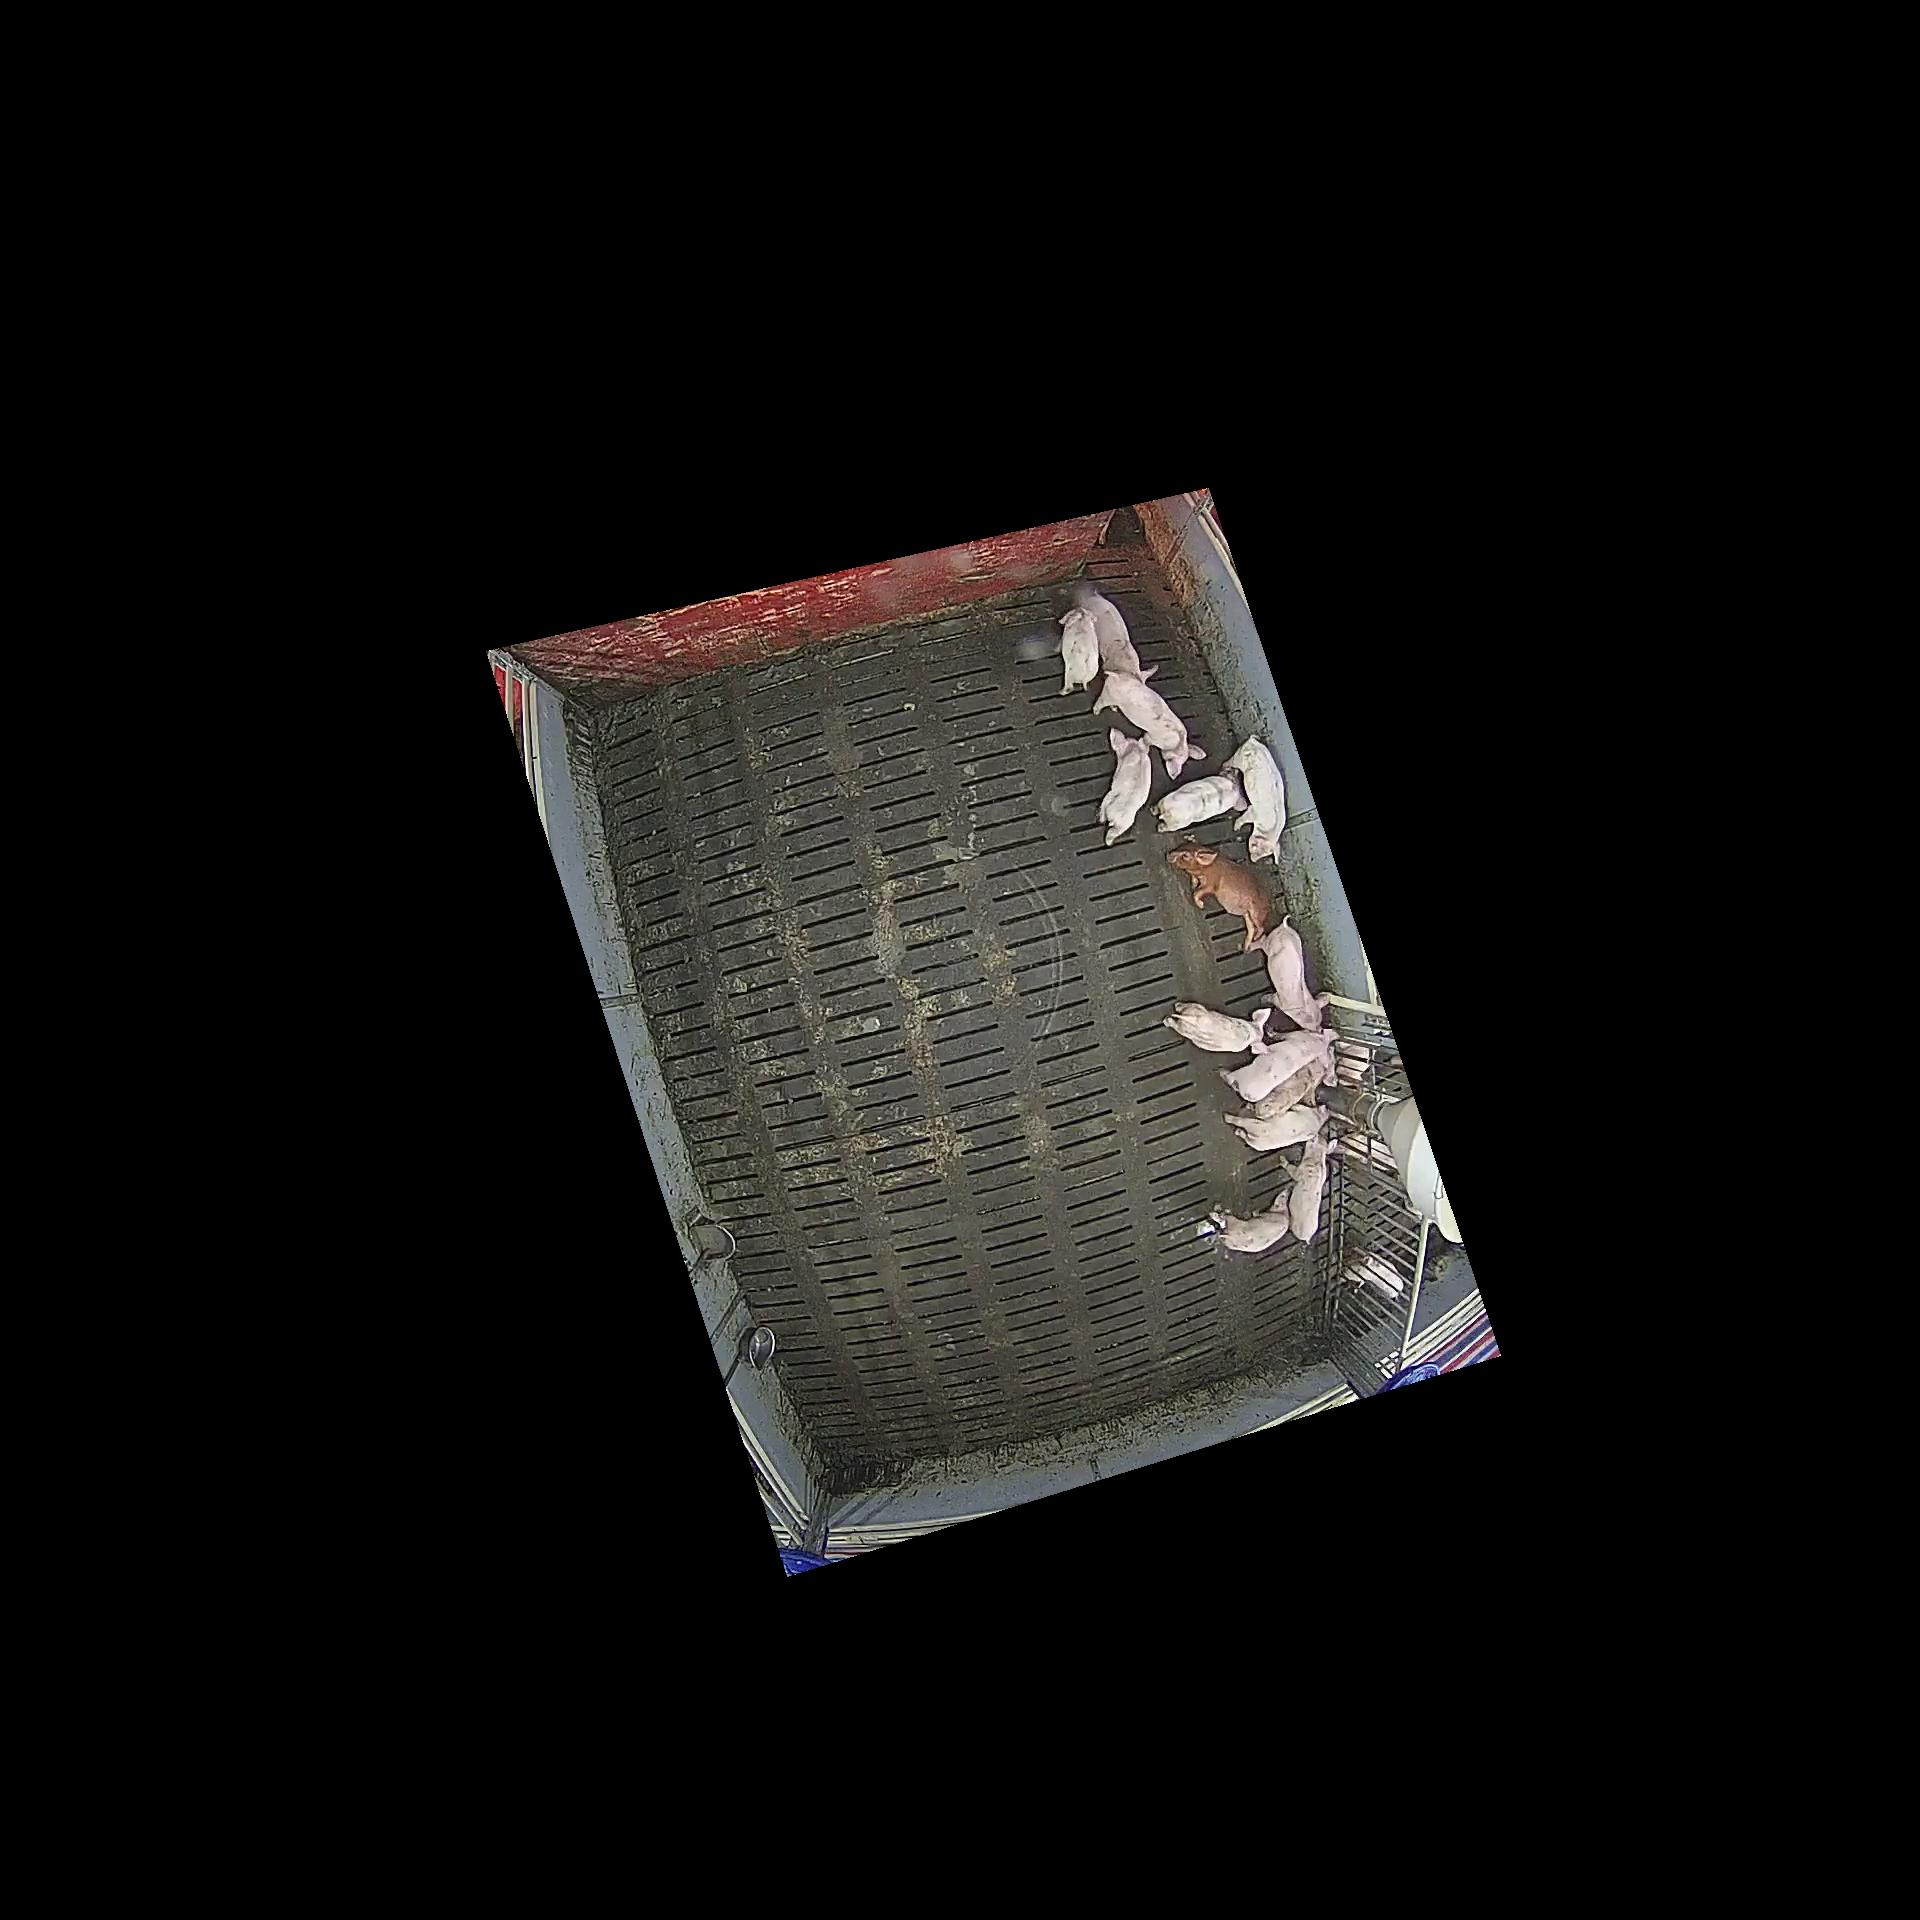pig: (1094, 670, 1206, 781), (1166, 835, 1271, 949), (1245, 914, 1333, 1032), (1220, 1025, 1342, 1102), (1071, 587, 1159, 684), (1222, 735, 1285, 865), (1247, 1046, 1342, 1120), (1280, 1132, 1338, 1245), (1099, 728, 1152, 846), (1150, 768, 1247, 832), (1164, 1002, 1273, 1055), (1224, 1104, 1331, 1152), (1217, 1189, 1289, 1252), (1053, 608, 1099, 695)
